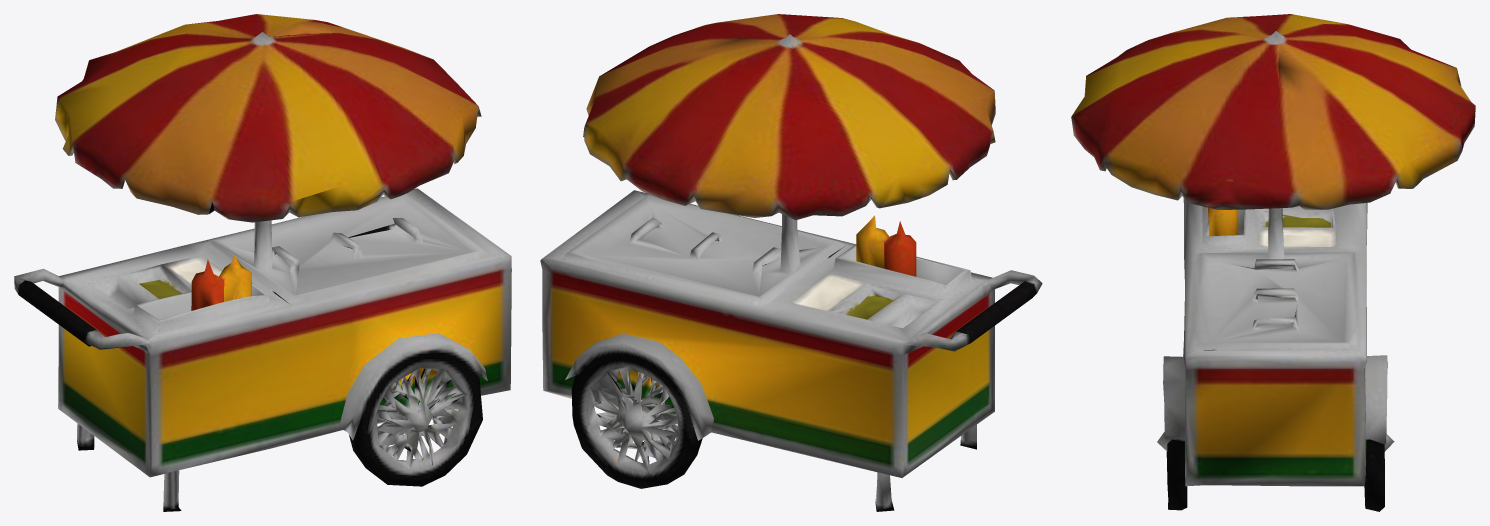
File: hot_dog_cart.glb
3 renders of one model, left to right at view 1: azimuth 30°, elevation 25°; view 2: azimuth 150°, elevation 25°; view 3: azimuth 270°, elevation 25°, orthographic. The views are drawn at different scales.
Visible parts, largest first — view 1: hot_dog_cart; view 2: hot_dog_cart; view 3: hot_dog_cart.
Boxes of the visible parts, x1=… form: hot_dog_cart: x1=14, y1=14, x2=511, y2=511; hot_dog_cart: x1=540, y1=14, x2=1042, y2=511; hot_dog_cart: x1=1071, y1=14, x2=1475, y2=511.
Bounding box in the file's own units: 2.2 × 2.22 × 1.92.
Materials: 1 (1 with a texture image).
